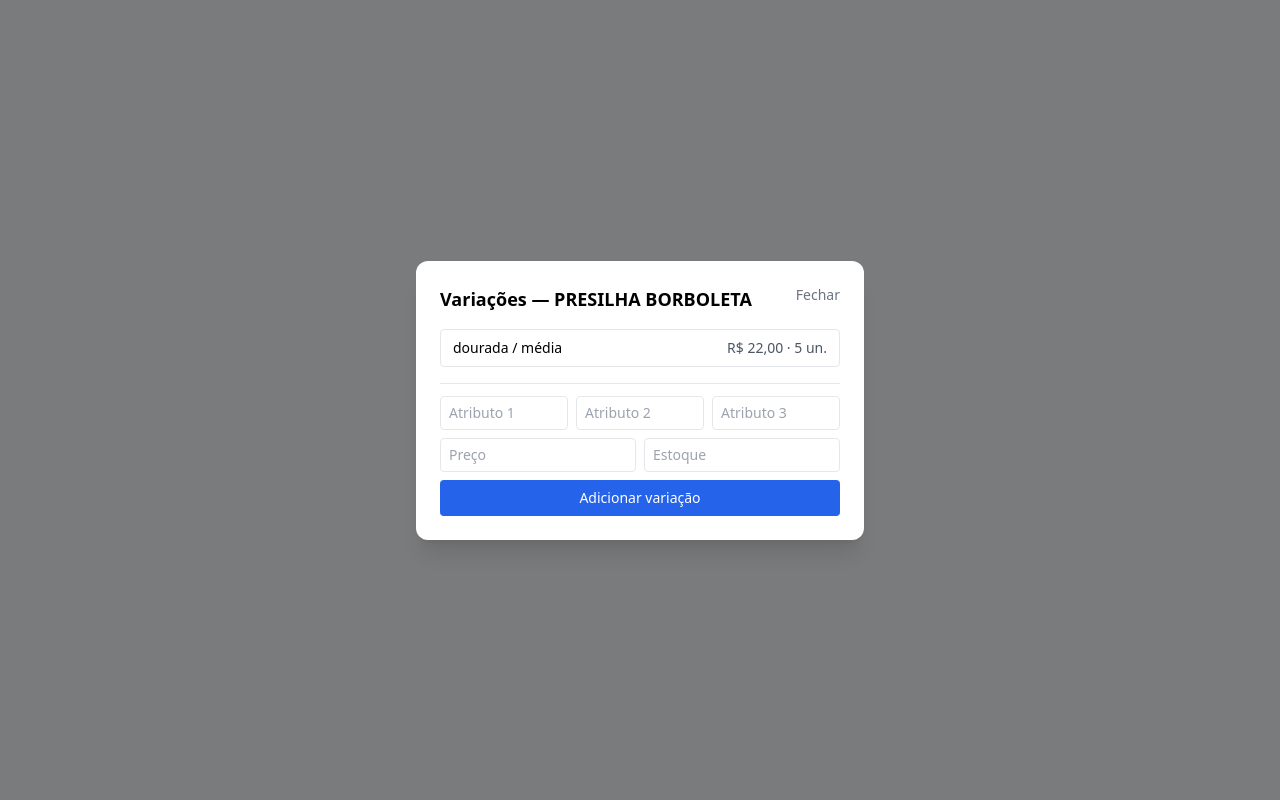
Test: GerenciarVariacoesModal — criação › 409 mostra combinação já existe
Expected: the text "dourada / média" is shown, [453, 338, 562, 358]
Type "dourada" into the field with placeholder "Atributo 1".
click(504, 412); type("dourada")  # box [440, 396, 568, 430]
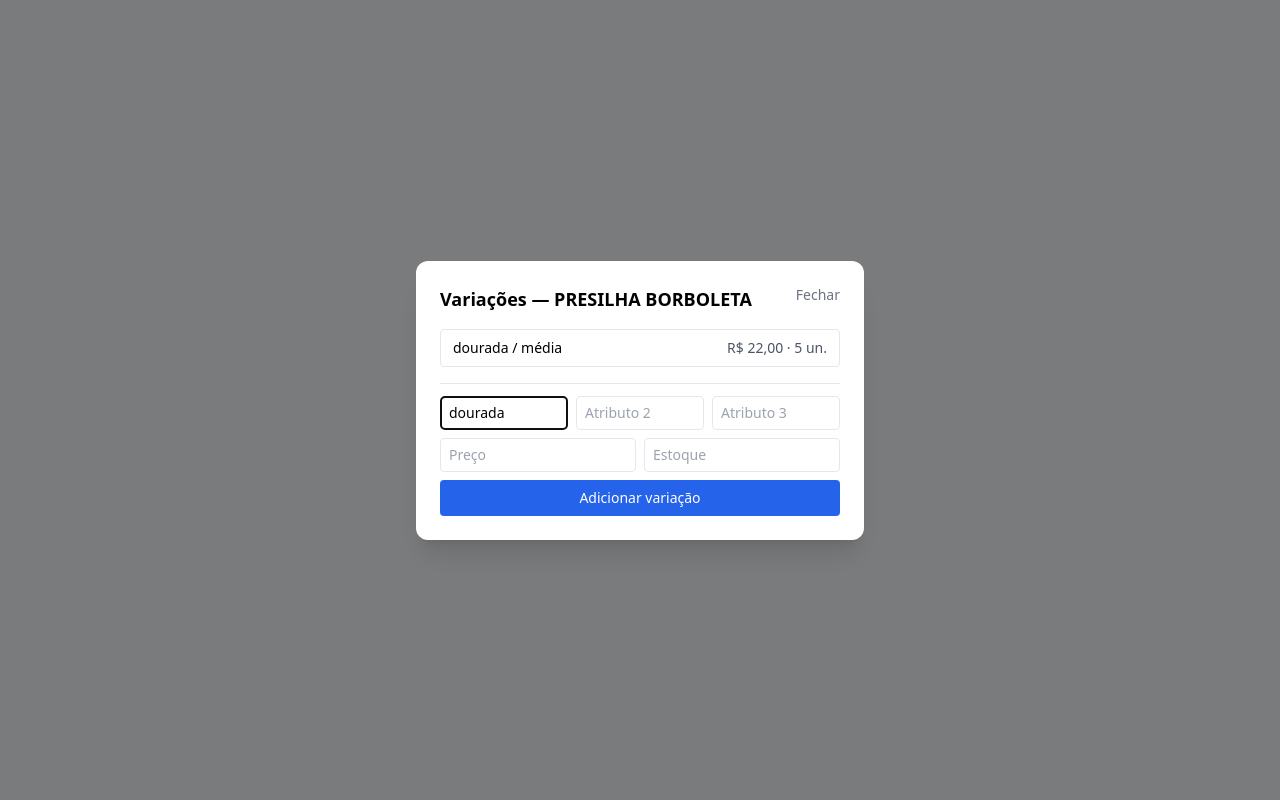
Type "média" into the field with placeholder "Atributo 2".
click(640, 412); type("média")  # box [576, 396, 704, 430]
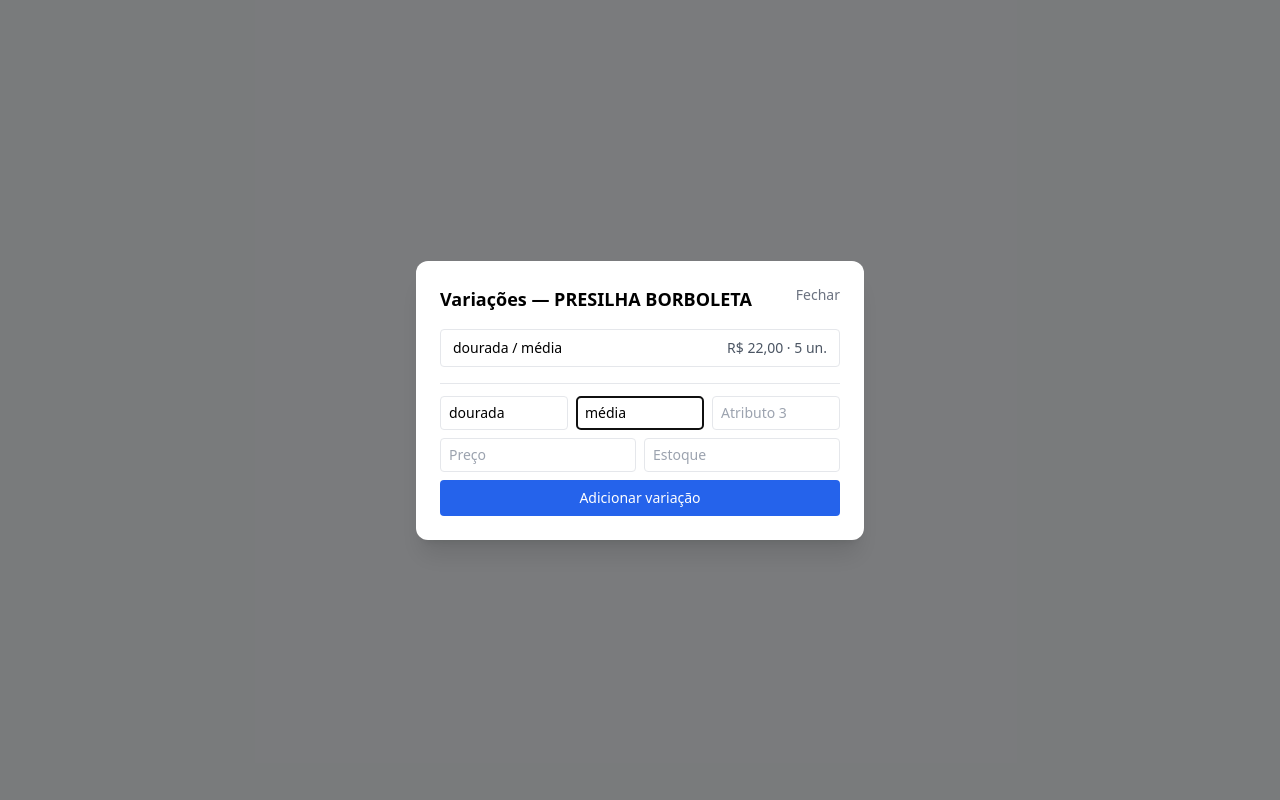
Type "22" into the field with placeholder "Preço".
click(538, 454); type("22")  # box [440, 438, 636, 472]
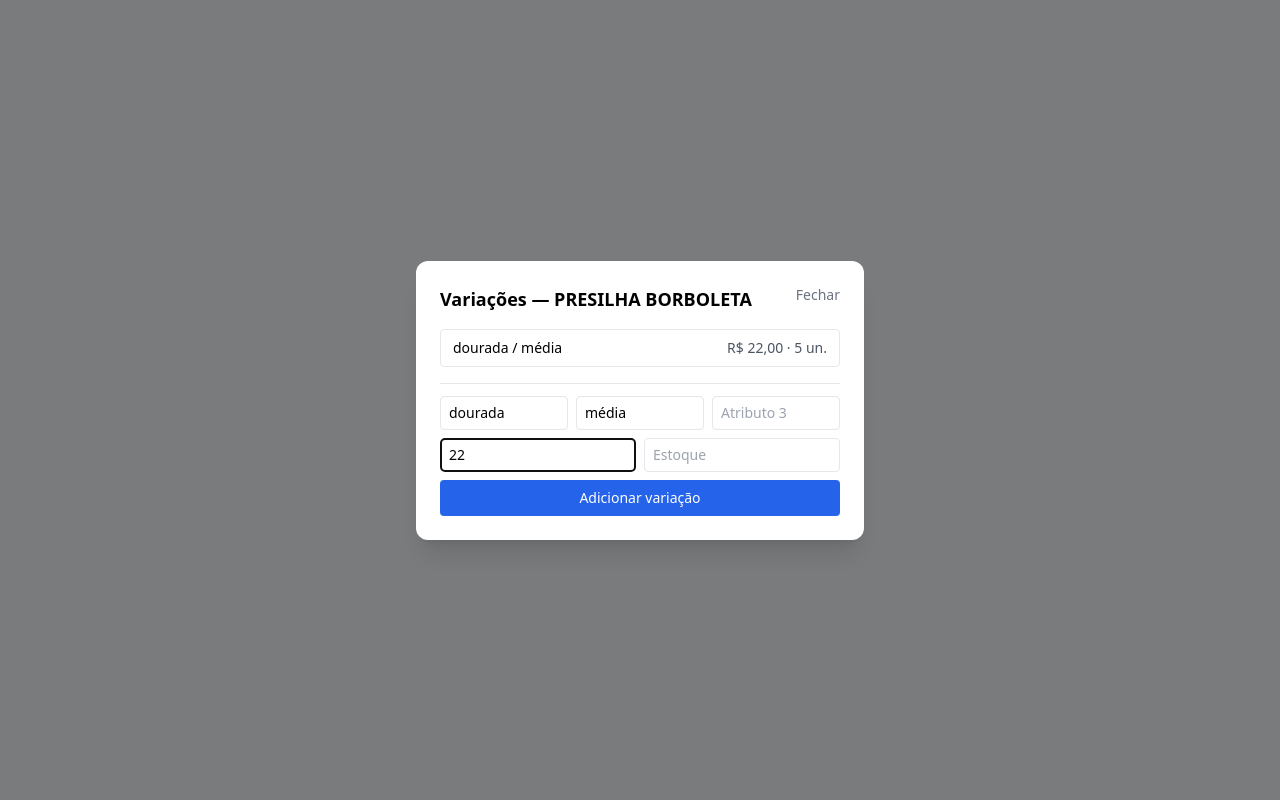
Type "5" into the field with placeholder "Estoque".
click(742, 454); type("5")  # box [644, 438, 840, 472]
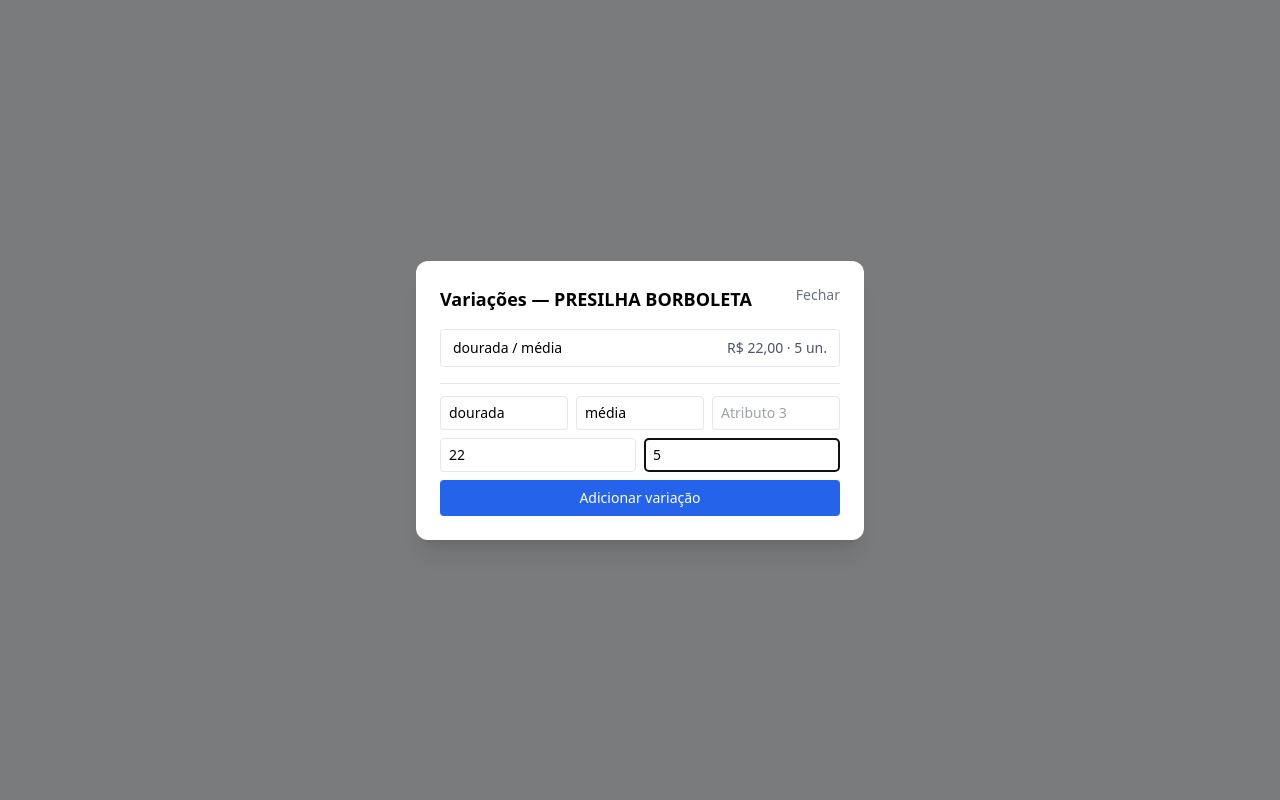
Click the button "Adicionar variação".
click(640, 498)  # box [440, 480, 840, 516]
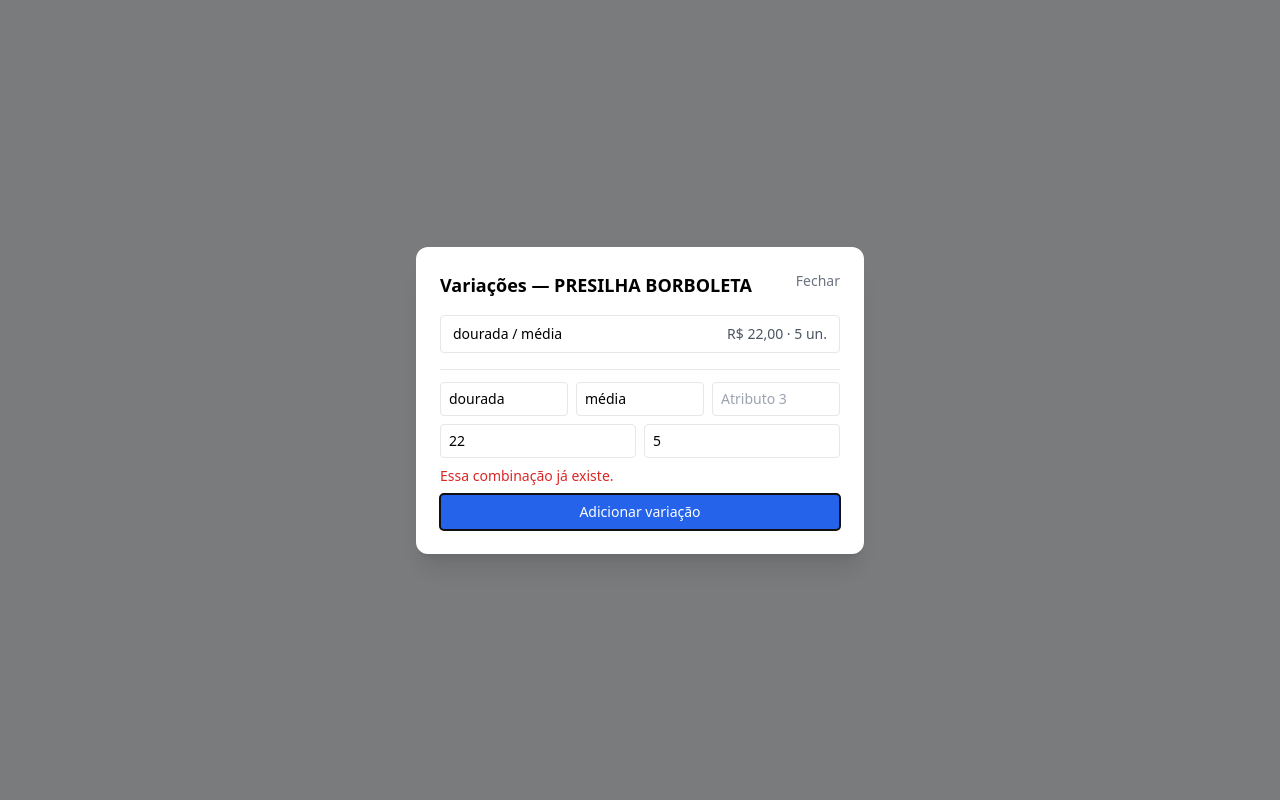
Expected: the text "Essa combinação já existe." is shown, [440, 466, 614, 484]
